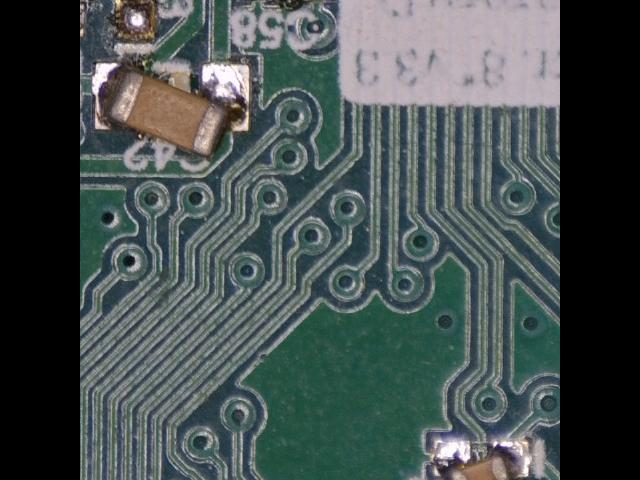Incorrect_installation: (96, 63, 250, 157), (436, 441, 530, 480)
